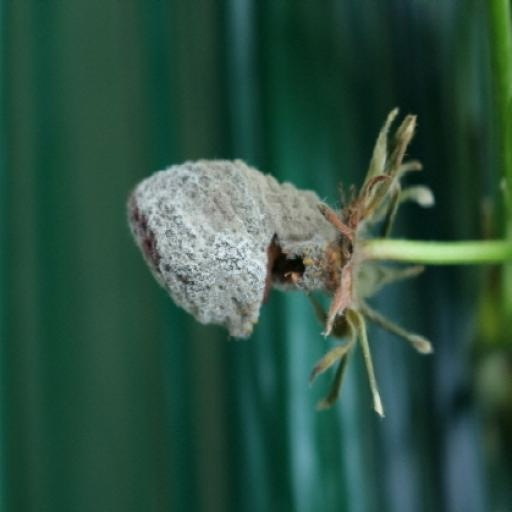Gray Mold: (77, 109, 387, 419)
